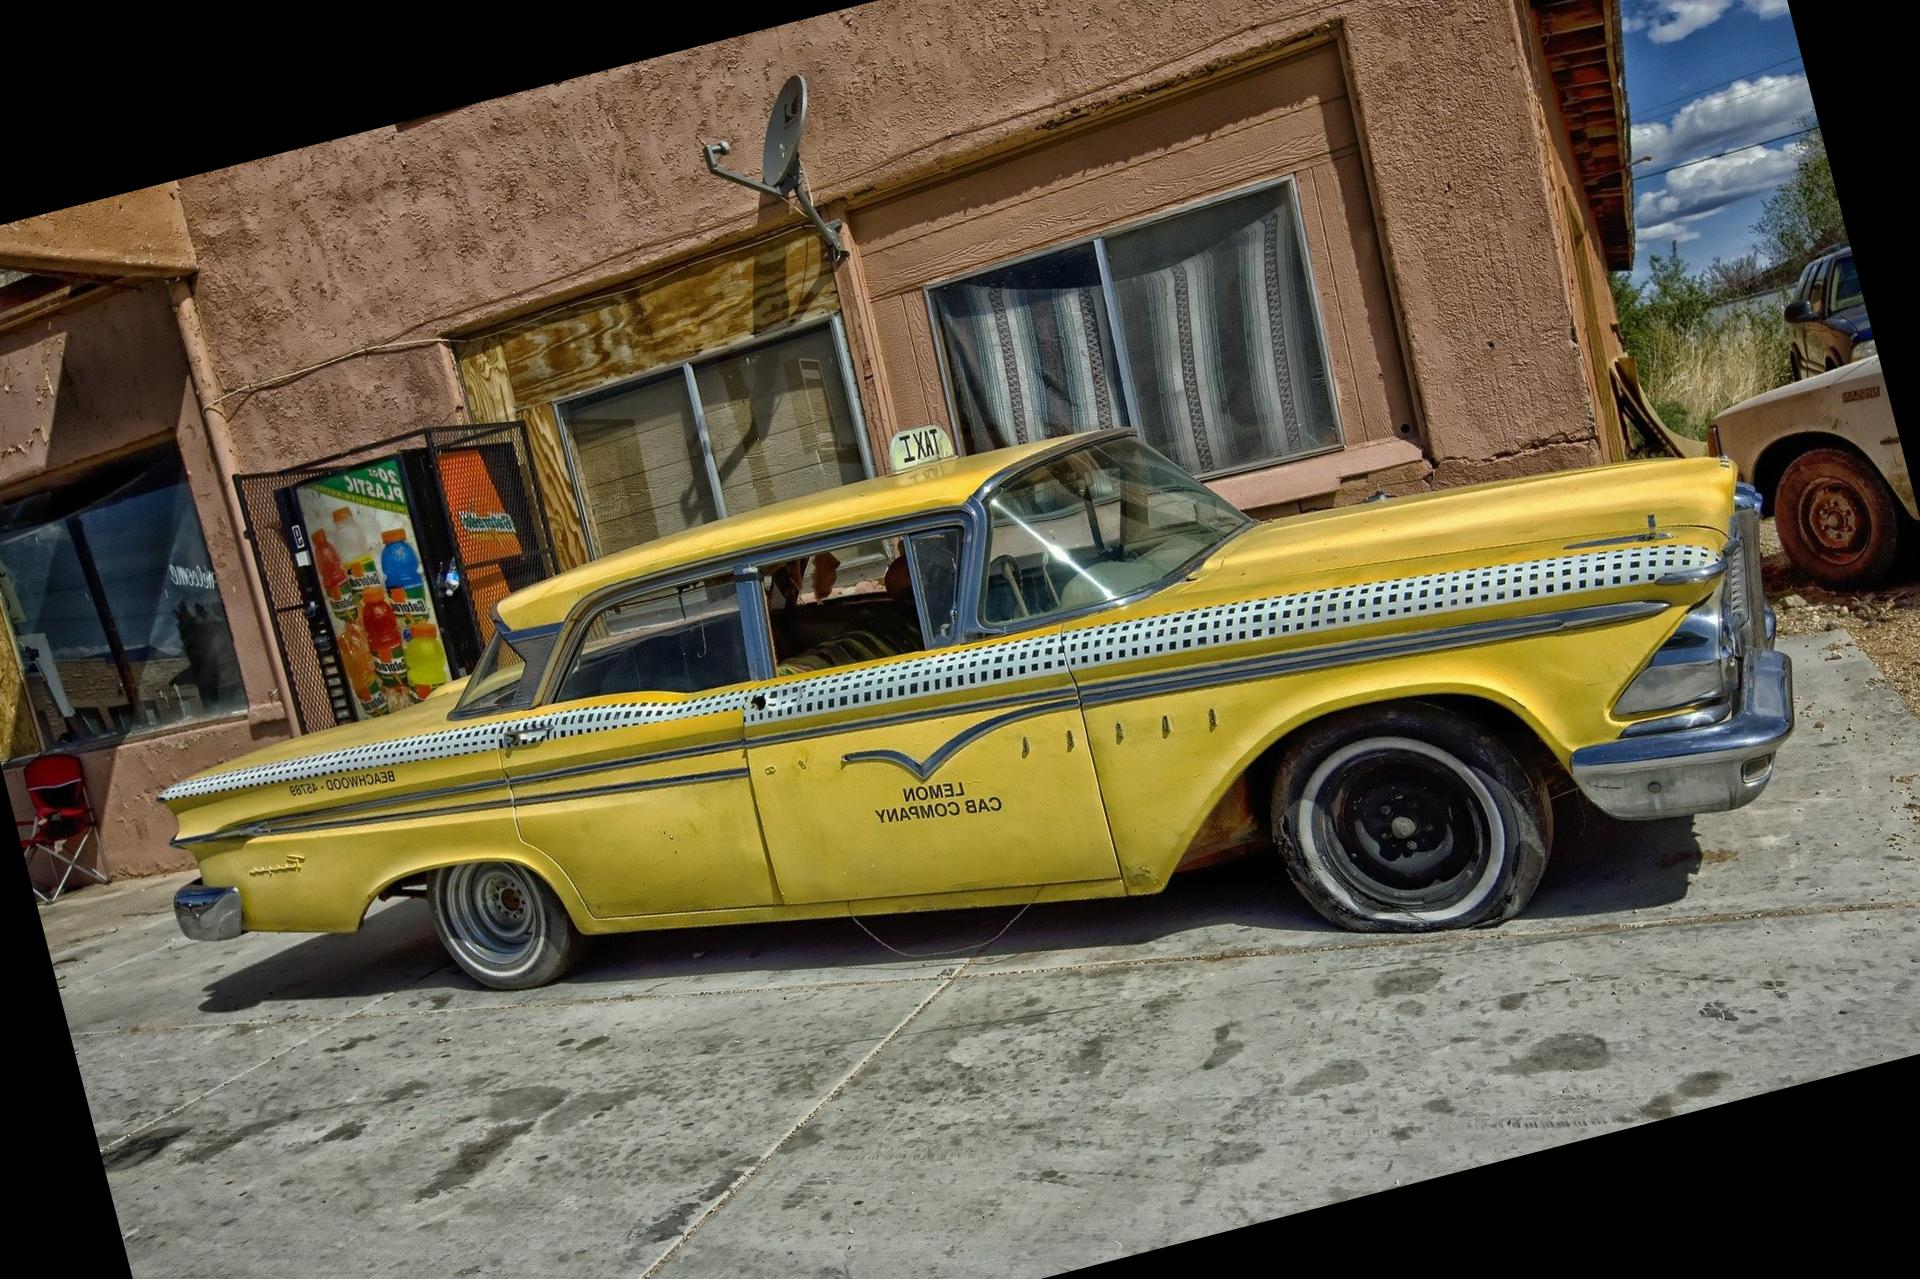taxi: (173, 444, 1820, 1001)
